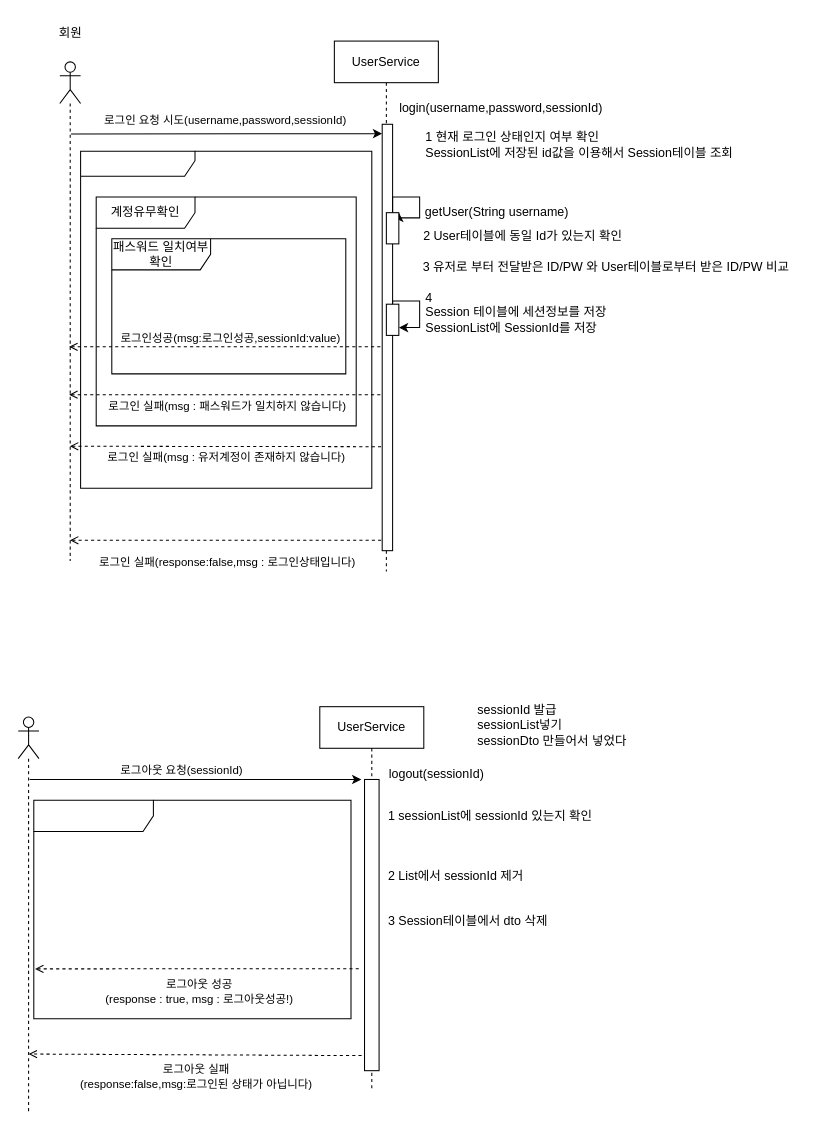
This 827x1130 diagram has some shape labels left out. The shapes that lost their labels are listed below. From the top down, each one's box as (x1, y1, x2, y2) in pixels, then its label:
(80, 150, 372, 488): !로그인 상태여부
(33, 799, 351, 1019): SessionList에 id값
